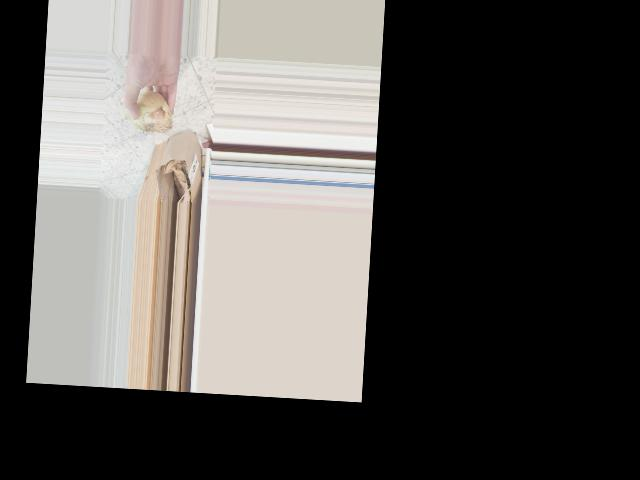onion: (126, 87, 174, 137)
